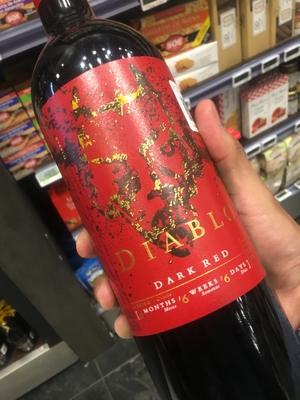diablo dark red: (39, 14, 262, 358)
